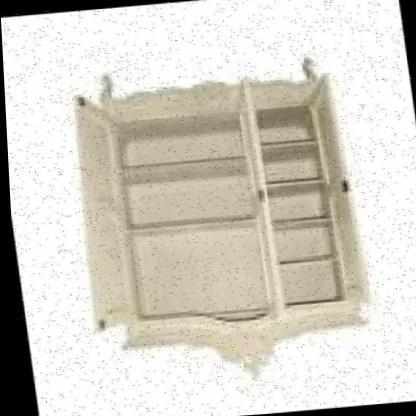Closet: (47, 40, 380, 398)
